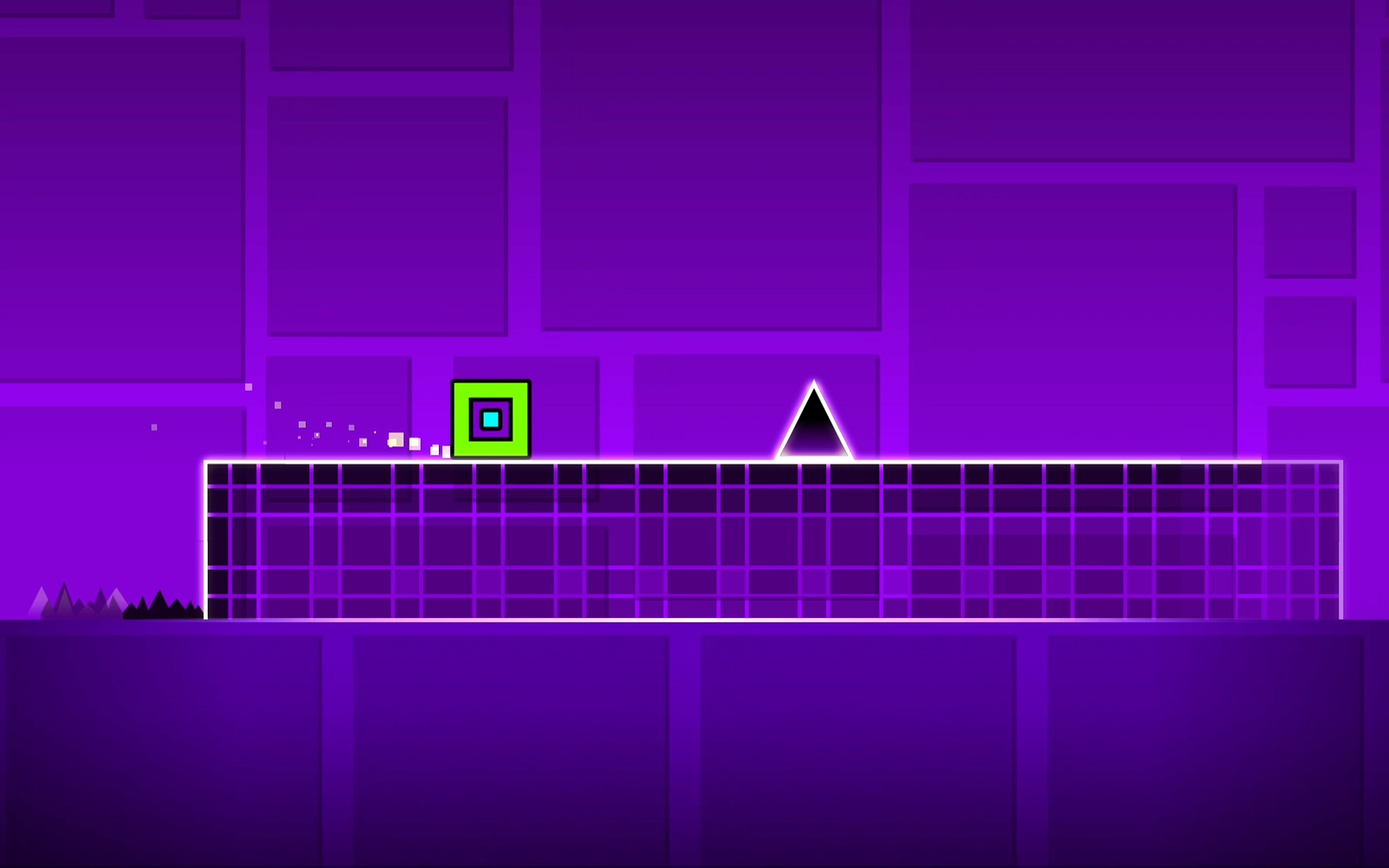Block2: (200, 455, 1326, 612)
Player: (449, 380, 530, 457)
Spike: (775, 381, 850, 458)
Spike3: (5, 581, 207, 622)
